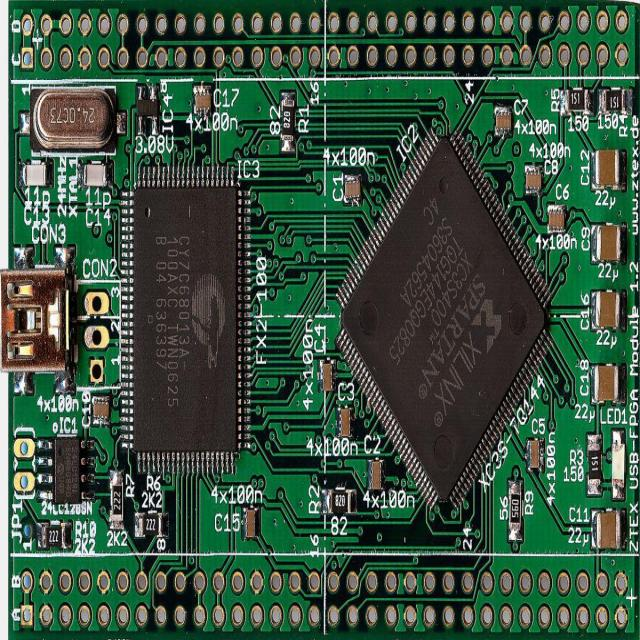Capacitor: (590, 148, 627, 190), (591, 222, 626, 265), (591, 364, 626, 403), (590, 290, 625, 328), (591, 509, 625, 548), (17, 161, 54, 186), (77, 160, 113, 185), (241, 505, 261, 540), (343, 172, 362, 205), (318, 357, 336, 391), (526, 438, 543, 470), (194, 84, 212, 114), (494, 105, 512, 135), (336, 406, 354, 436), (524, 164, 542, 193), (547, 203, 565, 231), (368, 458, 383, 490), (92, 397, 110, 423)
Clock: (29, 87, 114, 152)
Connector: (13, 555, 639, 637), (11, 3, 639, 76), (1, 269, 74, 372), (75, 281, 119, 388), (13, 431, 35, 497)
IC: (335, 125, 553, 510), (120, 166, 250, 474), (37, 437, 94, 502), (135, 83, 158, 134)
Led: (611, 428, 625, 499)
Resistor Network: (280, 90, 296, 154), (507, 479, 523, 541), (597, 87, 632, 115), (587, 434, 603, 494), (561, 87, 593, 115), (109, 469, 124, 528), (38, 521, 72, 547), (321, 487, 356, 512), (134, 512, 167, 536)
